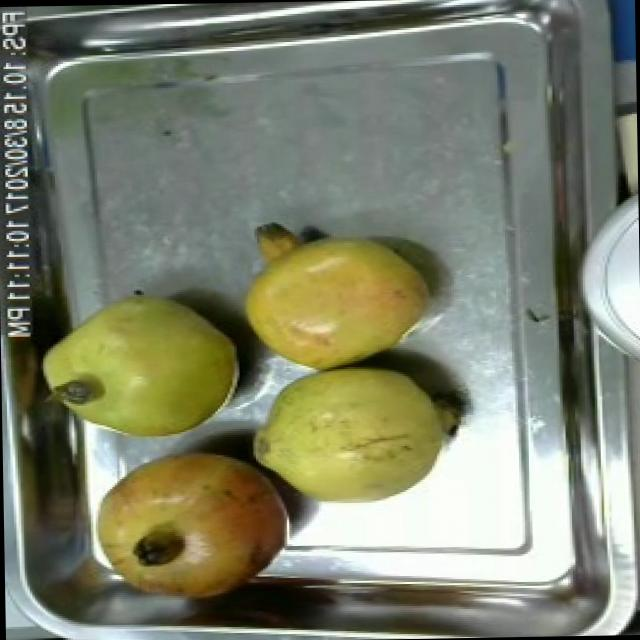fruit: (241, 354, 470, 512), (34, 277, 250, 443), (84, 442, 300, 604), (231, 218, 445, 378)
